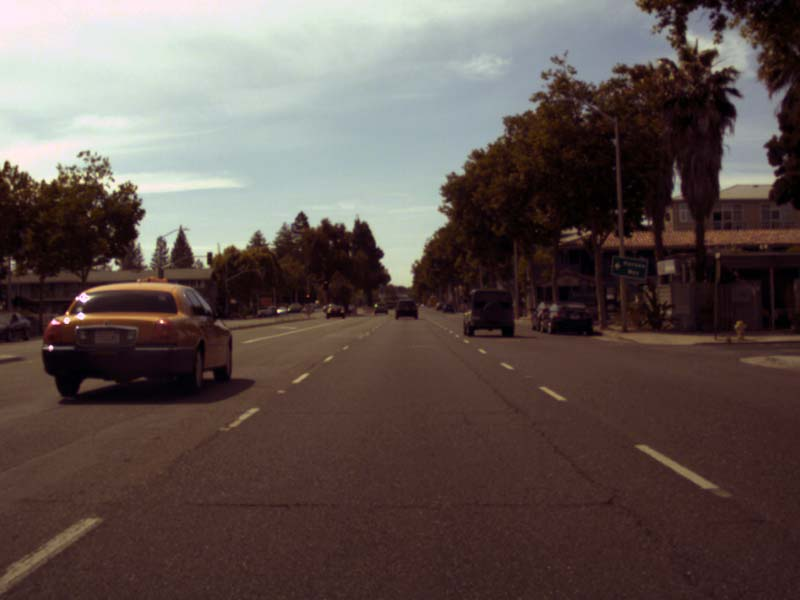Red: (323, 279, 328, 290)
Yellow: (304, 291, 311, 303)
